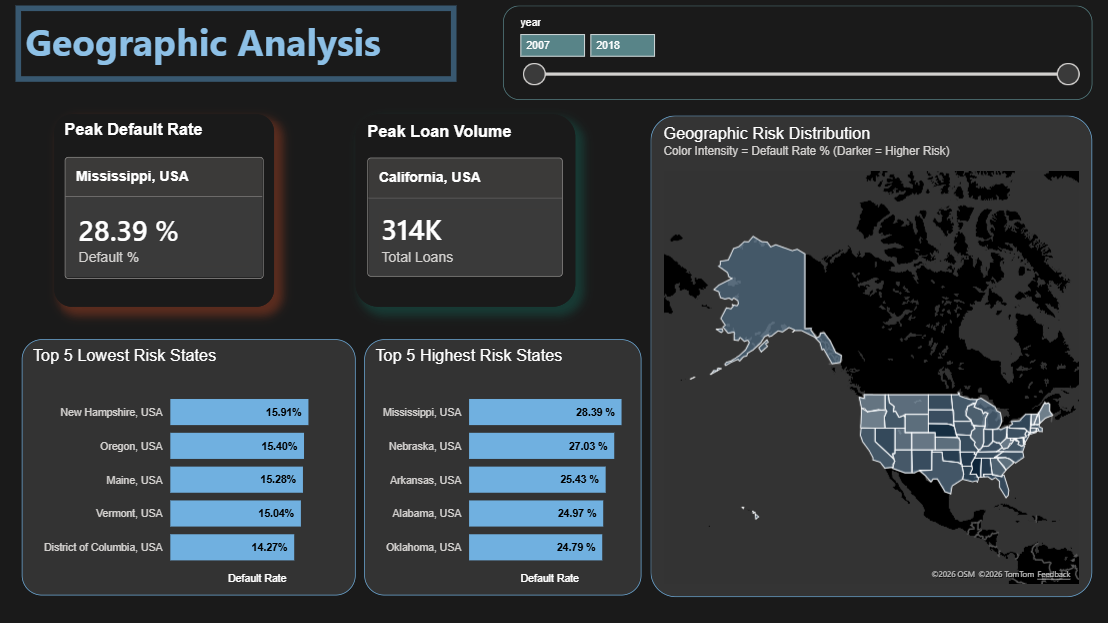

What the dashboard file says about the page in this screenshot:
{"tool":"powerbi","page":{"name":"Geographic Analysis","canvas":[1280,720],"ordinal":3},"visuals":[{"type":"textbox","box":[20,8.6,504.3,87.1],"z":0},{"type":"azureMap","title":"Geographic Risk Distribution","fields":{"Category":["dim_geography.state_name_usa"]},"box":[745.7,134,505,550],"z":1000},{"type":"clusteredBarChart","title":"Top 5 Highest Risk States","fields":{"Category":["dim_geography.state_name_usa"],"Y":["fact_loans.Default %"]},"box":[418.8,390.7,317.1,292.9],"z":2000},{"type":"clusteredBarChart","title":"Top 5 Lowest Risk States","fields":{"Category":["dim_geography.state_name_usa"],"Y":["fact_loans.Default %"]},"box":[27.3,390.7,381.4,292.9],"z":3000},{"type":"cardVisual","title":"Peak Loan Volume","fields":{"Data":["fact_loans.Total Loans"],"Rows":["dim_geography.state_name_usa"]},"box":[408.8,133.5,251.4,220],"z":4000},{"type":"cardVisual","title":"Peak Default Rate","fields":{"Data":["fact_loans.Default %"],"Rows":["dim_geography.state_name_usa"]},"box":[64.5,133.5,251.4,220],"z":5000},{"type":"slicer","fields":{"Values":["dim_date.year"]},"box":[576.7,8.3,673.3,108.3],"z":6000}]}

Visuals, with their boxes in screenshot pixels (x1, y1, x2, y2), scaled from the page's 1280x720 canvas onto the 1108x623 screenshot:
textbox: 17/7/454/83
"Geographic Risk Distribution" azureMap: 645/116/1083/592
"Top 5 Highest Risk States" clusteredBarChart: 363/338/637/592
"Top 5 Lowest Risk States" clusteredBarChart: 24/338/354/592
"Peak Loan Volume" cardVisual: 354/116/571/306
"Peak Default Rate" cardVisual: 56/116/273/306
slicer - dim_date.year: 499/7/1082/101
